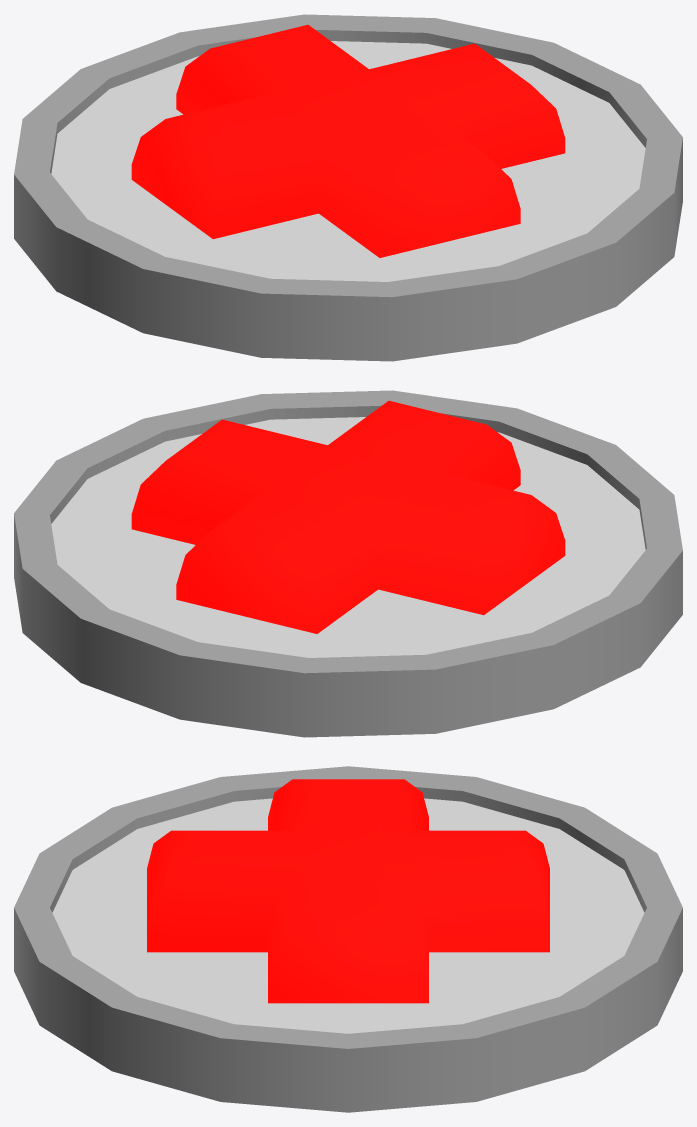
The model's file is Health.fbx.
3 renders of one model, top to bottom at view 1: azimuth 30°, elevation 25°; view 2: azimuth 150°, elevation 25°; view 3: azimuth 270°, elevation 25°, orthographic.
Visible parts, largest first — view 1: HealthCoin, HealthCross; view 2: HealthCoin, HealthCross; view 3: HealthCoin, HealthCross.
Part boxes in pixels (x1,y1,x2,y2): HealthCoin: [14, 14, 682, 361]; HealthCross: [131, 24, 565, 257]; HealthCoin: [14, 390, 682, 737]; HealthCross: [131, 400, 565, 633]; HealthCoin: [14, 766, 682, 1112]; HealthCross: [147, 779, 549, 1003].
Size of the model in its own units: 200 by 61.25 by 200.
